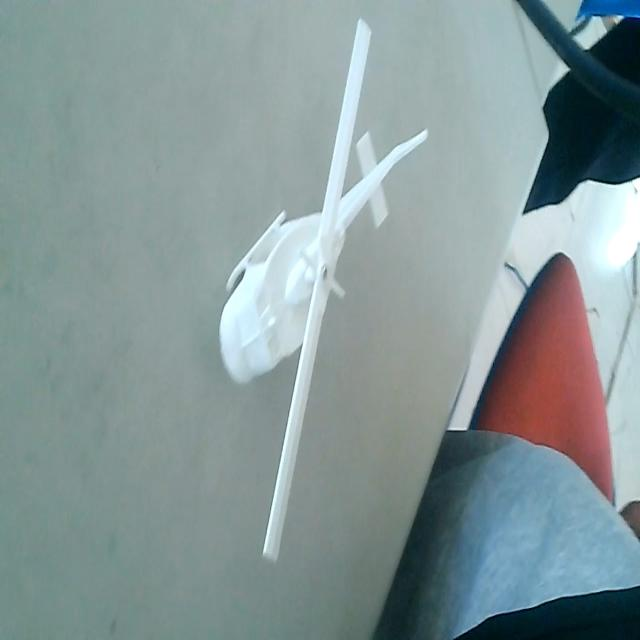Helicopter: (217, 10, 428, 582)
